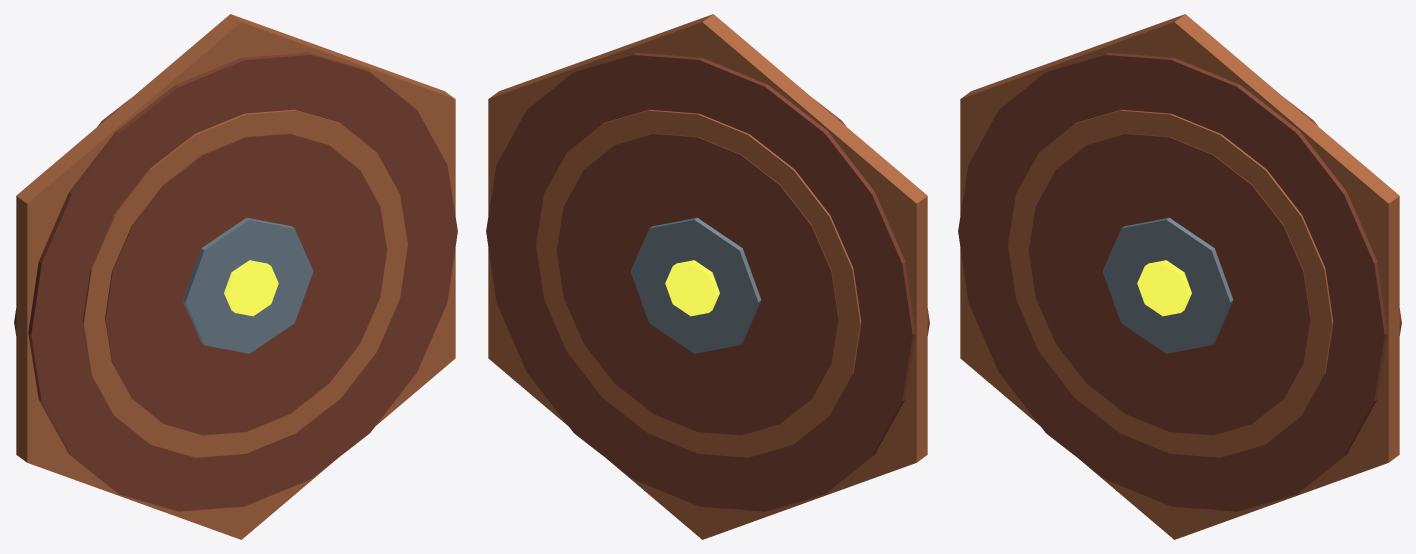
Rendered from City_Gear.fbx.
3 renders of one model, left to right at view 1: azimuth 30°, elevation 25°; view 2: azimuth 150°, elevation 25°; view 3: azimuth 330°, elevation 25°, orthographic.
Visible parts, largest first — view 1: City_Gear; view 2: City_Gear; view 3: City_Gear.
Boxes of the visible parts, bbox=[...] form: City_Gear: bbox=[14, 14, 457, 539]; City_Gear: bbox=[486, 14, 929, 539]; City_Gear: bbox=[958, 14, 1401, 539].
Size of the model in its own units: 20.09 by 2.8 by 23.2.
